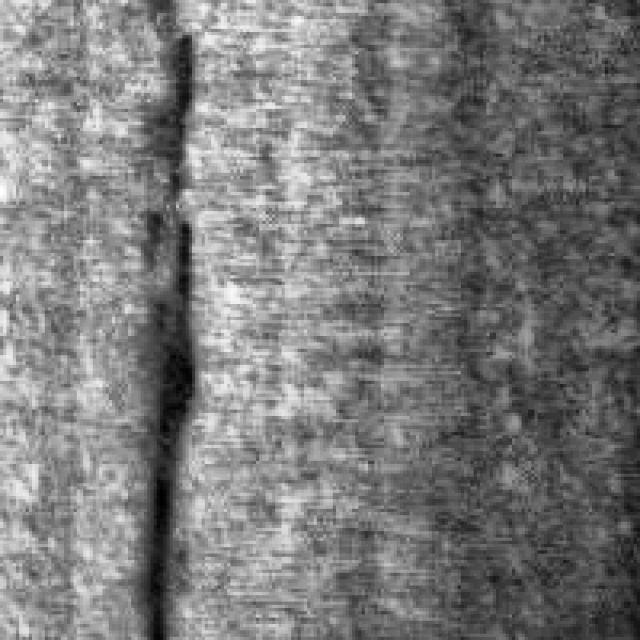Patches: (125, 208, 214, 637), (143, 9, 214, 220)
